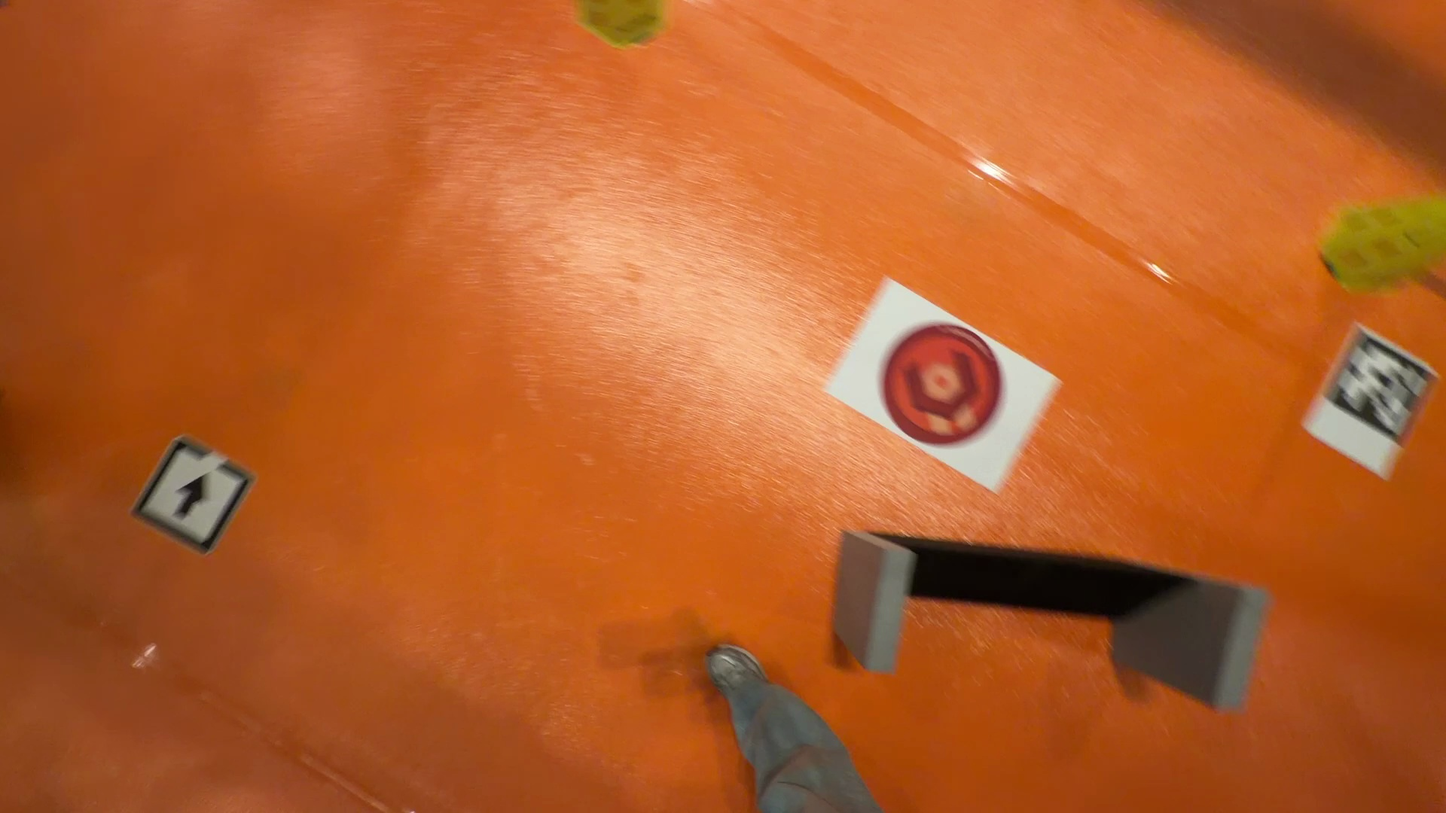landing_pad: (877, 321, 1005, 451)
